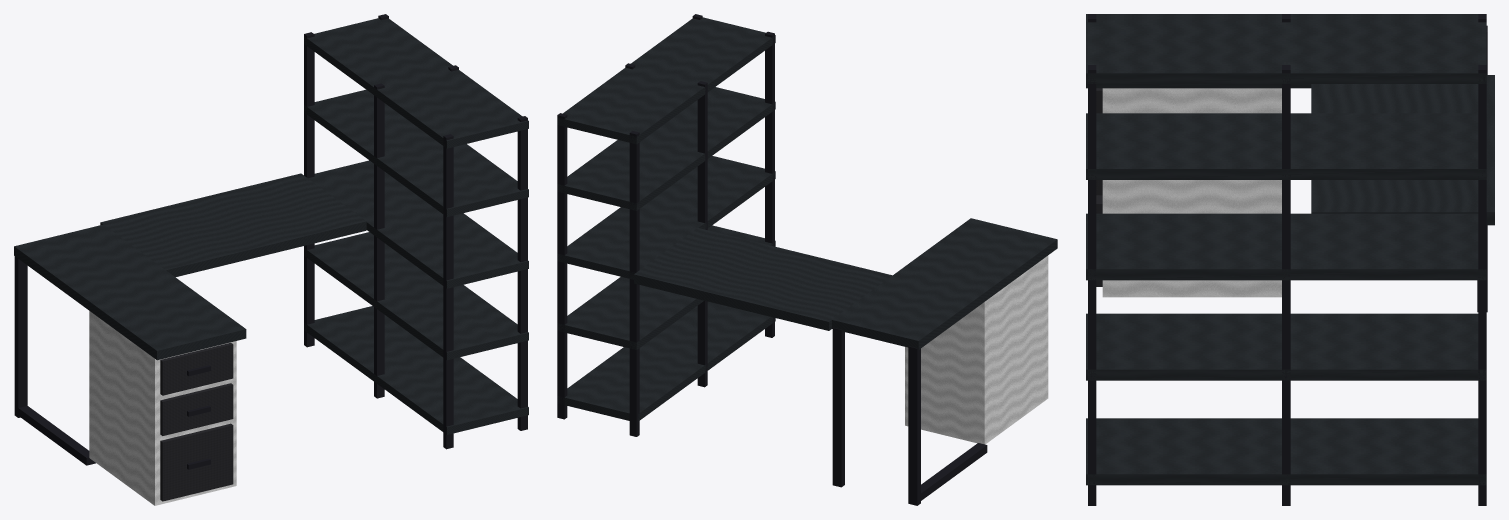
3 renders of one model, left to right at view 1: azimuth 30°, elevation 25°; view 2: azimuth 150°, elevation 25°; view 3: azimuth 270°, elevation 25°, orthographic. The views are drawn at different scales.
Parts seen in each view (by area): view 1: 1 main_desktop, 2 left_wing_top, 13 right_shelf_top, 3 left_drawer_cabinet_body, 17 right_shelf_1, 16 right_shelf_2, 14 right_shelf_4, 15 right_shelf_3, 6 drawer_bottom, 19 shelf_post_front_inner, 18 shelf_post_front_outer, 21 shelf_post_mid_inner (+5 smaller); view 2: 3 left_drawer_cabinet_body, 1 main_desktop, 2 left_wing_top, 13 right_shelf_top, 17 right_shelf_1, 14 right_shelf_4, 15 right_shelf_3, 16 right_shelf_2, 23 shelf_post_back_inner, 22 shelf_post_back_outer, 21 shelf_post_mid_inner, 10 left_back_leg_outer (+3 smaller); view 3: 13 right_shelf_top, 15 right_shelf_3, 16 right_shelf_2, 17 right_shelf_1, 14 right_shelf_4, 3 left_drawer_cabinet_body, 1 main_desktop, 18 shelf_post_front_outer, 22 shelf_post_back_outer, 20 shelf_post_mid_outer, 2 left_wing_top.
Boxes of the visible parts, left/top/right/bottom form: 1 main_desktop: left=100, top=173, right=366, bottom=277; 2 left_wing_top: left=14, top=224, right=246, bottom=360; 13 right_shelf_top: left=304, top=18, right=528, bottom=148; 3 left_drawer_cabinet_body: left=89, top=311, right=236, bottom=505; 17 right_shelf_1: left=304, top=306, right=528, bottom=434; 16 right_shelf_2: left=304, top=232, right=528, bottom=360; 14 right_shelf_4: left=304, top=89, right=528, bottom=216; 15 right_shelf_3: left=308, top=160, right=528, bottom=288; 6 drawer_bottom: left=160, top=423, right=233, bottom=501; 19 shelf_post_front_inner: left=443, top=134, right=453, bottom=449; 18 shelf_post_front_outer: left=517, top=116, right=527, bottom=430; 21 shelf_post_mid_inner: left=374, top=83, right=384, bottom=398; 3 left_drawer_cabinet_body: left=905, top=255, right=1048, bottom=444; 1 main_desktop: left=634, top=228, right=892, bottom=330; 2 left_wing_top: left=832, top=218, right=1057, bottom=349; 13 right_shelf_top: left=557, top=17, right=775, bottom=144; 17 right_shelf_1: left=557, top=301, right=775, bottom=421; 14 right_shelf_4: left=557, top=87, right=775, bottom=210; 15 right_shelf_3: left=557, top=156, right=775, bottom=279; 16 right_shelf_2: left=557, top=225, right=775, bottom=349; 23 shelf_post_back_inner: left=629, top=130, right=639, bottom=436; 22 shelf_post_back_outer: left=557, top=113, right=567, bottom=419; 21 shelf_post_mid_inner: left=697, top=81, right=707, bottom=387; 10 left_back_leg_outer: left=908, top=346, right=920, bottom=505; 13 right_shelf_top: left=1086, top=17, right=1486, bottom=83; 15 right_shelf_3: left=1086, top=213, right=1486, bottom=280; 16 right_shelf_2: left=1086, top=313, right=1486, bottom=380; 17 right_shelf_1: left=1086, top=418, right=1486, bottom=485; 14 right_shelf_4: left=1086, top=113, right=1486, bottom=179; 3 left_drawer_cabinet_body: left=1102, top=88, right=1281, bottom=297; 1 main_desktop: left=1311, top=75, right=1494, bottom=225; 18 shelf_post_front_outer: left=1088, top=65, right=1096, bottom=505; 22 shelf_post_back_outer: left=1478, top=65, right=1486, bottom=505; 20 shelf_post_mid_outer: left=1282, top=65, right=1290, bottom=505; 2 left_wing_top: left=1086, top=14, right=1478, bottom=88.
Bounding box in the file's own units: 1.25 × 1 × 0.85.
Materials: 4 (3 with a texture image).
